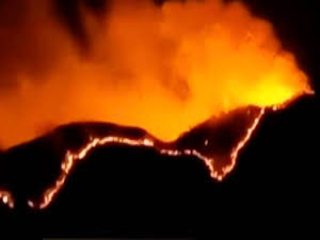fire: (33, 135, 111, 207), (117, 134, 206, 158), (210, 136, 248, 180), (3, 187, 18, 211)
smoke: (56, 7, 313, 127)
